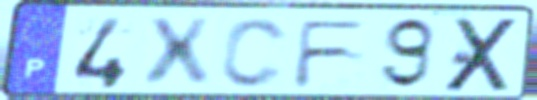4: (69, 15, 131, 92)
9: (375, 16, 438, 93)
C: (217, 16, 292, 92)
F: (290, 18, 372, 91)
X: (439, 16, 524, 95), (143, 15, 215, 91)
